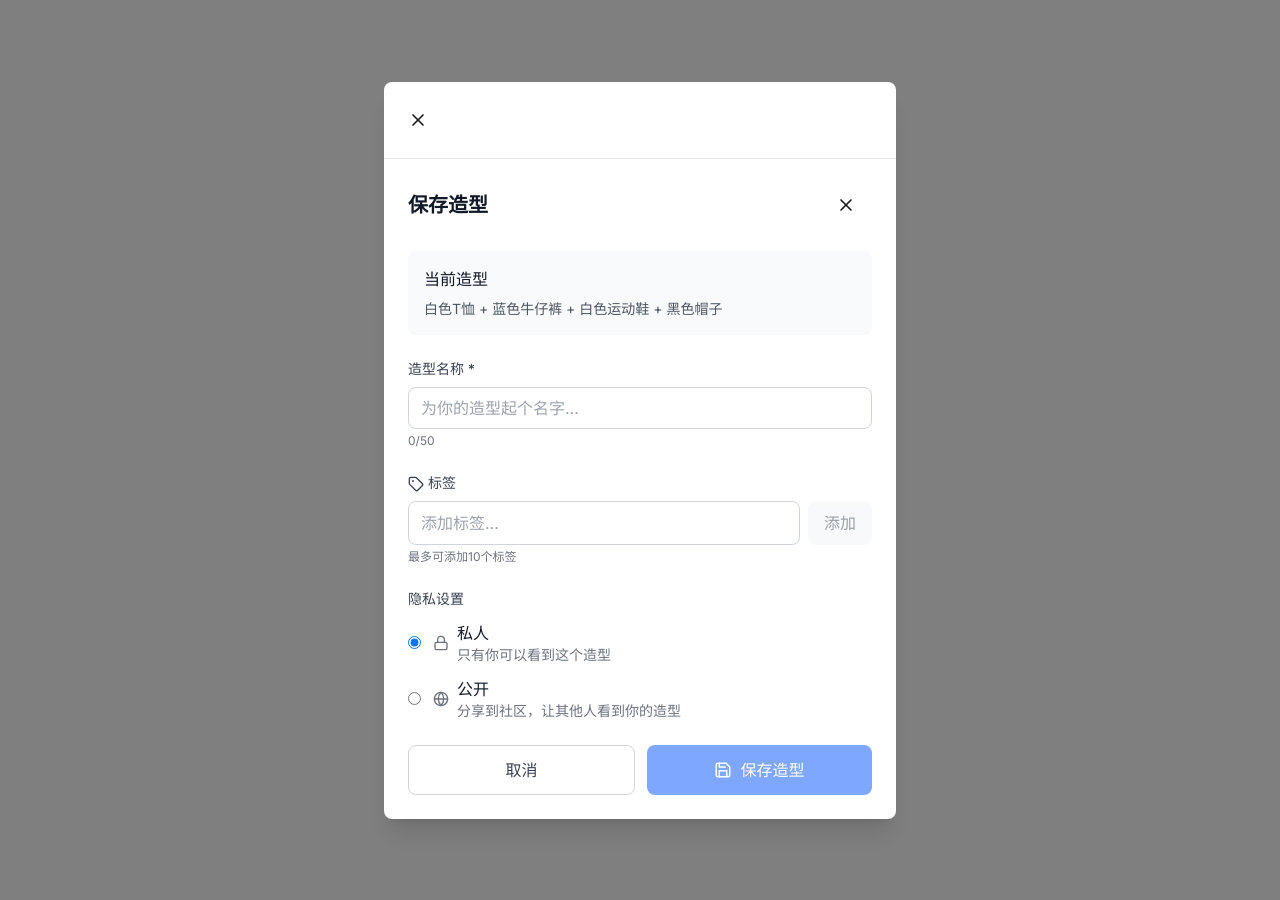
Test: 用户输入属性测试 › 标签输入验证 › 应该支持删除标签
Type "休闲" into the field with placeholder "添加标签...". click: (604, 522)
box: [408,500,800,544]
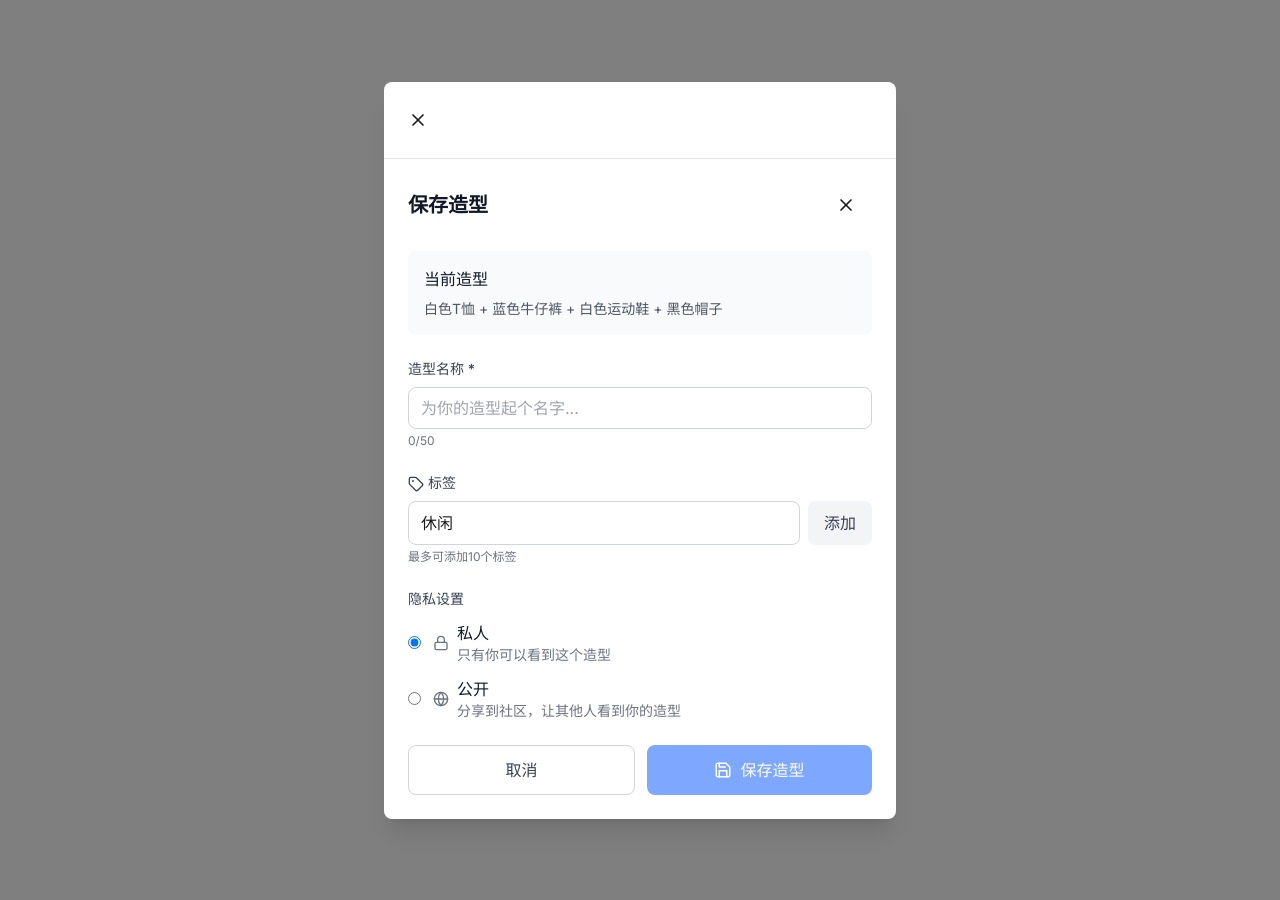
Click the button "添加". click: (840, 522)
box: [808,500,872,544]
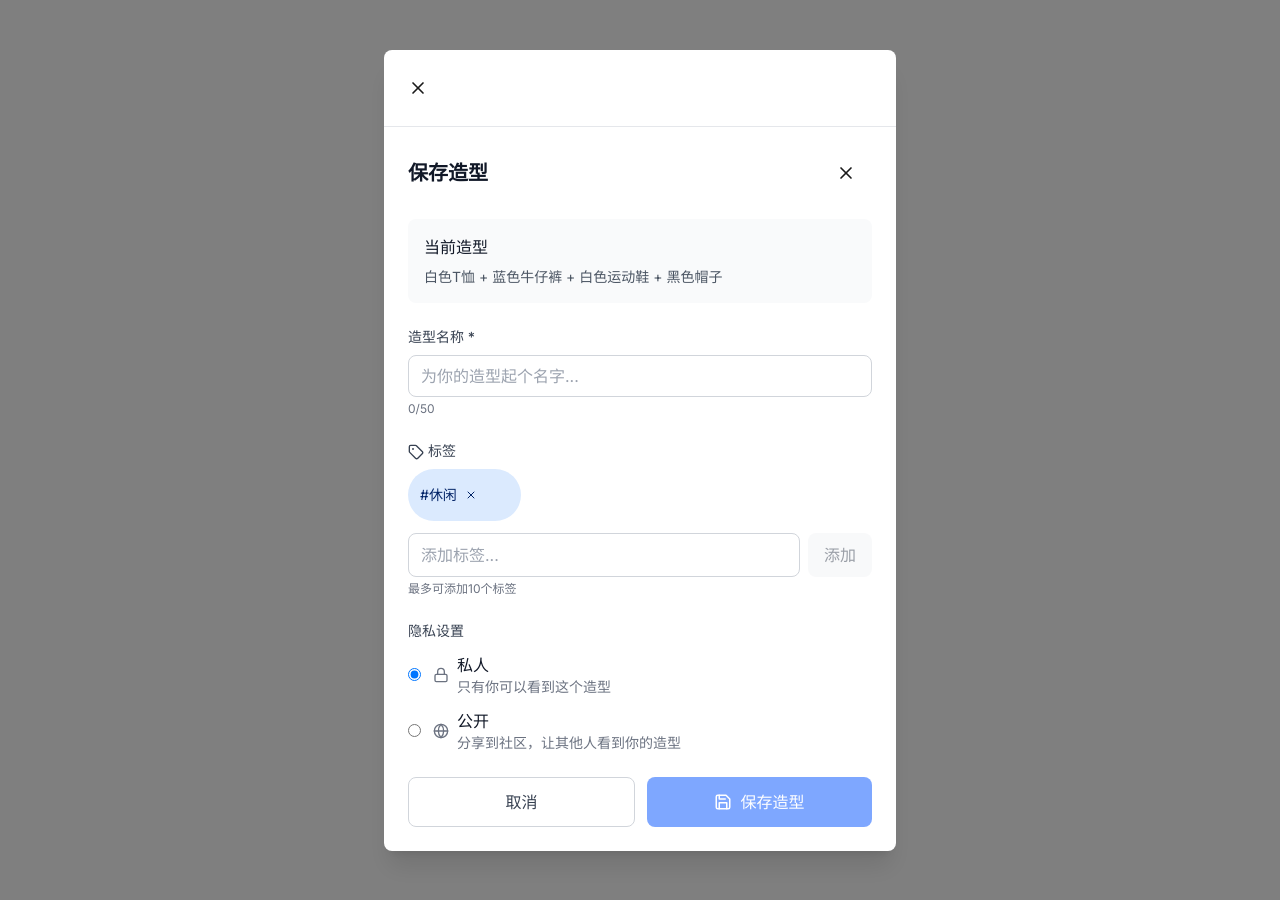
Expected: the text "#休闲" is shown, [408,468,521,520]
Click the button named "删除标签 休闲". click: (487, 494)
box: [465,472,509,516]
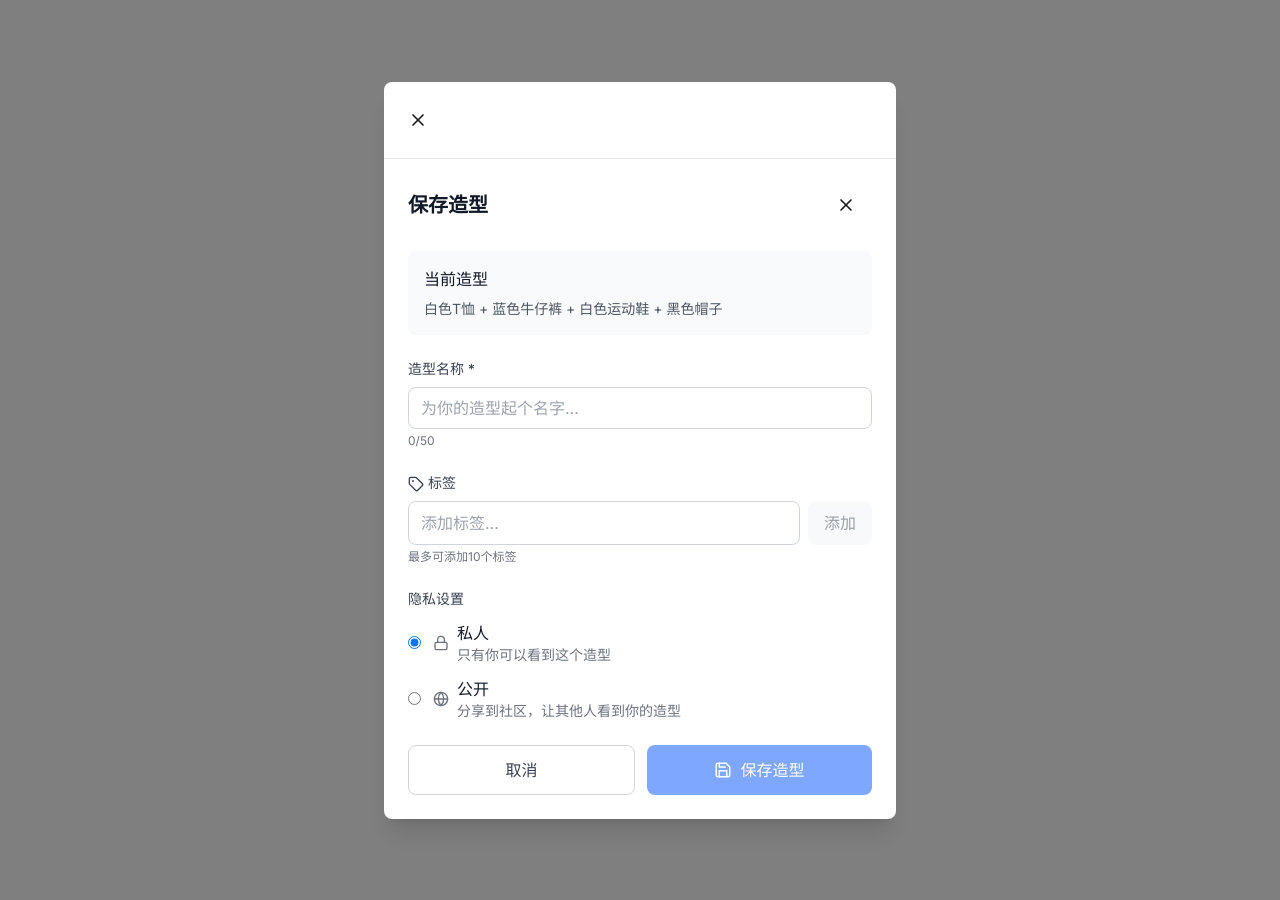
Expected: the text "#休闲" is gone
